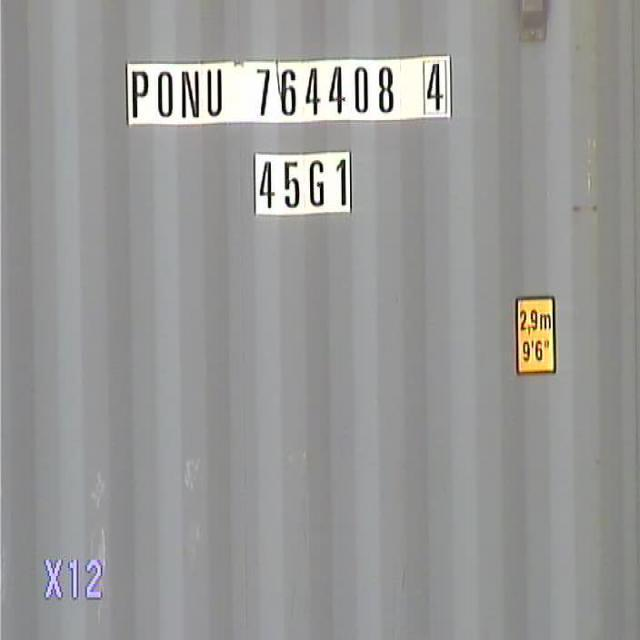ISO: (258, 162, 352, 214)
container_number: (120, 57, 450, 126)
